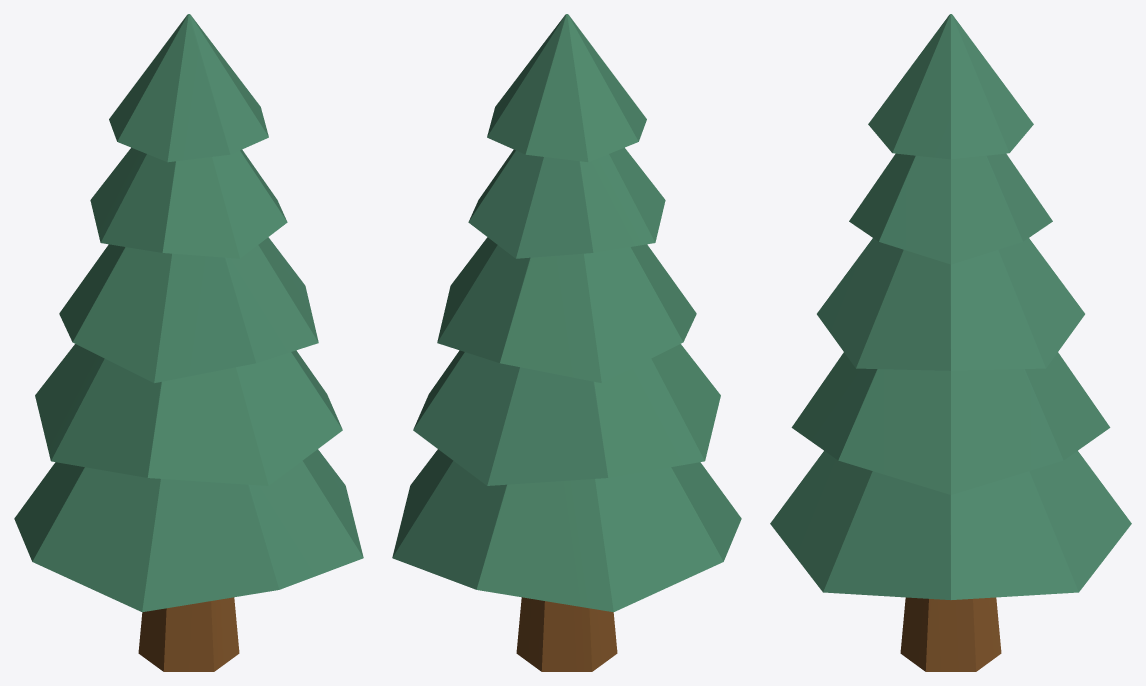
Rendered from Tree_Pine_01.fbx.
The picture shows the model from 3 angles, left to right: view 1: azimuth 30°, elevation 25°; view 2: azimuth 150°, elevation 25°; view 3: azimuth 270°, elevation 25°; orthographic projection.
Visible parts, largest first — view 1: Tree_Pine_01.001, Tree_Pine_01.002, Tree_Pine_01.003, Tree_Pine_01.004, Tree_Pine_01.005, Tree_Pine_01; view 2: Tree_Pine_01.001, Tree_Pine_01.002, Tree_Pine_01.003, Tree_Pine_01.004, Tree_Pine_01.005, Tree_Pine_01; view 3: Tree_Pine_01.001, Tree_Pine_01.002, Tree_Pine_01.003, Tree_Pine_01.004, Tree_Pine_01.005, Tree_Pine_01.
Part boxes in pixels (x1=…): Tree_Pine_01.001: x1=14, y1=449, x2=363, y2=612; Tree_Pine_01.002: x1=35, y1=344, x2=342, y2=485; Tree_Pine_01.003: x1=59, y1=237, x2=318, y2=383; Tree_Pine_01.004: x1=90, y1=147, x2=287, y2=258; Tree_Pine_01.005: x1=109, y1=14, x2=268, y2=162; Tree_Pine_01: x1=138, y1=597, x2=239, y2=671; Tree_Pine_01.001: x1=392, y1=449, x2=741, y2=612; Tree_Pine_01.002: x1=413, y1=344, x2=720, y2=485; Tree_Pine_01.003: x1=437, y1=237, x2=696, y2=383; Tree_Pine_01.004: x1=468, y1=147, x2=665, y2=258; Tree_Pine_01.005: x1=487, y1=14, x2=646, y2=162; Tree_Pine_01: x1=516, y1=597, x2=617, y2=671; Tree_Pine_01.001: x1=770, y1=451, x2=1131, y2=599; Tree_Pine_01.002: x1=791, y1=352, x2=1110, y2=494; Tree_Pine_01.003: x1=817, y1=238, x2=1084, y2=370; Tree_Pine_01.004: x1=849, y1=153, x2=1052, y2=264; Tree_Pine_01.005: x1=868, y1=14, x2=1033, y2=159; Tree_Pine_01: x1=900, y1=597, x2=1001, y2=671.
Bounding box in the file's own units: 4.17 × 8.12 × 4.17.
